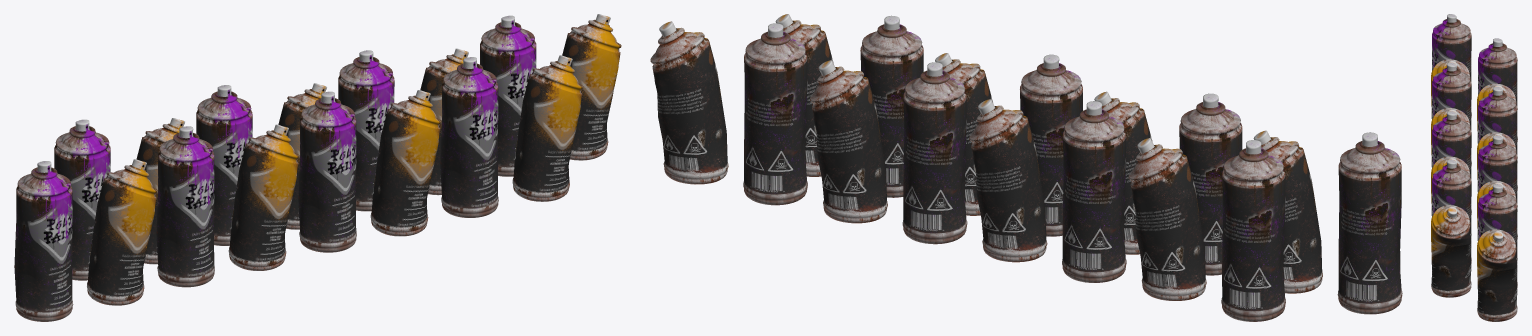
File: stock_spray_paint_row.glb
The picture shows the model from 3 angles, left to right: view 1: azimuth 30°, elevation 25°; view 2: azimuth 150°, elevation 25°; view 3: azimuth 270°, elevation 25°; orthographic projection. The views are drawn at different scales.
Visible parts, largest first — view 1: spray_paint_bottles_02, spray_paint_bottles_02.002, spray_paint_bottles_02.004, spray_paint_bottles_02.006, spray_paint_bottles_02_dented, spray_paint_bottles_02_dented.002, spray_paint_bottles_02_dented.004, spray_paint_bottles_02_dented.006, spray_paint_bottles_02_dented.007, spray_paint_bottles_02.001, spray_paint_bottles_02.003, spray_paint_bottles_02.005 (+4 smaller); view 2: spray_paint_bottles_02, spray_paint_bottles_02.001, spray_paint_bottles_02.007, spray_paint_bottles_02.005, spray_paint_bottles_02.003, spray_paint_bottles_02_dented.007, spray_paint_bottles_02_dented.003, spray_paint_bottles_02_dented.001, spray_paint_bottles_02_dented.005, spray_paint_bottles_02.002, spray_paint_bottles_02.004, spray_paint_bottles_02.006 (+4 smaller); view 3: spray_paint_bottles_02_dented.006, spray_paint_bottles_02_dented.007, spray_paint_bottles_02.006, spray_paint_bottles_02.007, spray_paint_bottles_02.003, spray_paint_bottles_02, spray_paint_bottles_02.001, spray_paint_bottles_02.004, spray_paint_bottles_02.005, spray_paint_bottles_02.002, spray_paint_bottles_02_dented.004, spray_paint_bottles_02_dented.003 (+4 smaller).
Part boxes in pixels (x1,y1,x2,y2): spray_paint_bottles_02: [14, 161, 73, 321]; spray_paint_bottles_02.002: [156, 126, 214, 287]; spray_paint_bottles_02.004: [298, 91, 356, 252]; spray_paint_bottles_02.006: [440, 57, 498, 217]; spray_paint_bottles_02_dented: [87, 159, 157, 305]; spray_paint_bottles_02_dented.002: [228, 124, 299, 270]; spray_paint_bottles_02_dented.004: [370, 90, 441, 236]; spray_paint_bottles_02_dented.006: [512, 55, 583, 201]; spray_paint_bottles_02_dented.007: [562, 14, 621, 160]; spray_paint_bottles_02.001: [54, 119, 110, 280]; spray_paint_bottles_02.003: [196, 85, 252, 245]; spray_paint_bottles_02.005: [338, 50, 394, 211]; spray_paint_bottles_02: [1337, 132, 1402, 314]; spray_paint_bottles_02.001: [1221, 140, 1285, 321]; spray_paint_bottles_02.007: [743, 23, 807, 205]; spray_paint_bottles_02.005: [902, 62, 967, 244]; spray_paint_bottles_02.003: [1062, 101, 1126, 282]; spray_paint_bottles_02_dented.007: [650, 21, 728, 184]; spray_paint_bottles_02_dented.003: [969, 99, 1047, 262]; spray_paint_bottles_02_dented.001: [1128, 138, 1206, 300]; spray_paint_bottles_02_dented.005: [810, 60, 887, 223]; spray_paint_bottles_02.002: [1179, 93, 1242, 275]; spray_paint_bottles_02.004: [1020, 54, 1082, 236]; spray_paint_bottles_02.006: [860, 15, 923, 197]; spray_paint_bottles_02_dented.006: [1431, 205, 1471, 297]; spray_paint_bottles_02_dented.007: [1477, 229, 1517, 321]; spray_paint_bottles_02.006: [1432, 159, 1471, 263]; spray_paint_bottles_02.007: [1478, 184, 1517, 288]; spray_paint_bottles_02.003: [1478, 87, 1517, 190]; spray_paint_bottles_02: [1432, 14, 1471, 117]; spray_paint_bottles_02.001: [1478, 38, 1517, 141]; spray_paint_bottles_02.004: [1432, 111, 1471, 214]; spray_paint_bottles_02.005: [1478, 135, 1517, 238]; spray_paint_bottles_02.002: [1432, 62, 1471, 165]; spray_paint_bottles_02_dented.004: [1431, 156, 1471, 235]; spray_paint_bottles_02_dented.003: [1477, 132, 1517, 211].
Bounding box in the file's own units: 0.8881 × 0.2018 × 0.1512.
Materials: 8 (8 with a texture image).
